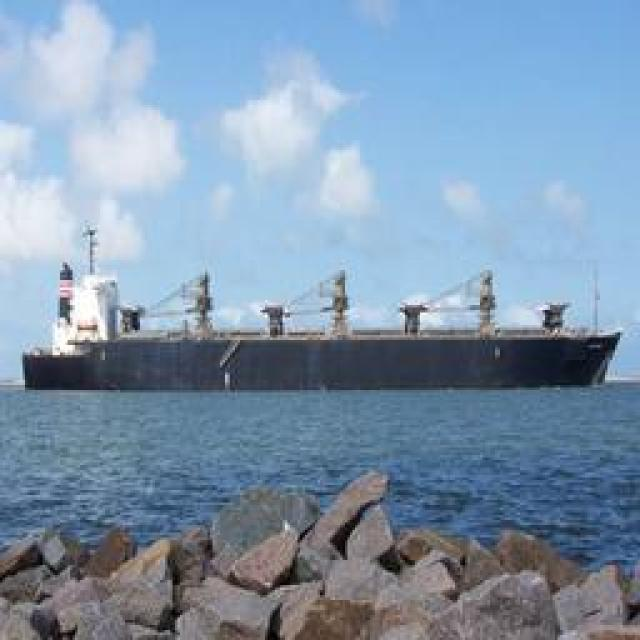ship2: (22, 220, 621, 391)
